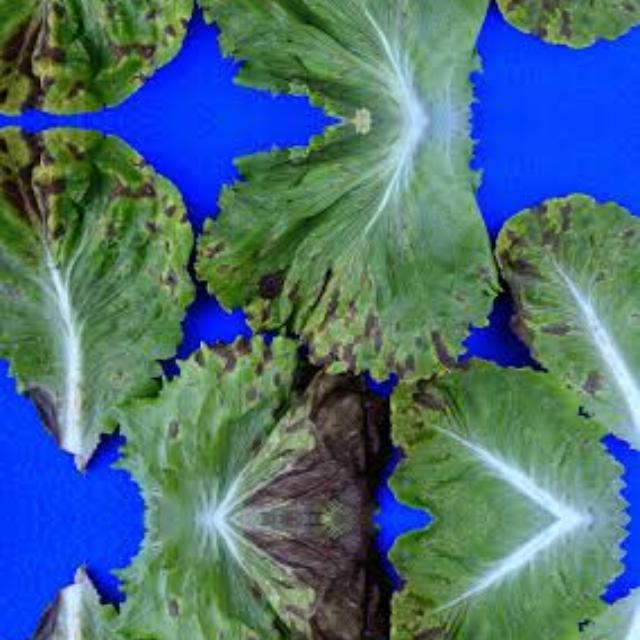Downy_mildew: (1, 127, 190, 476), (377, 340, 615, 518), (482, 180, 640, 418), (377, 519, 615, 640), (0, 0, 189, 113), (0, 561, 189, 640), (482, 0, 640, 59), (482, 620, 640, 640)
